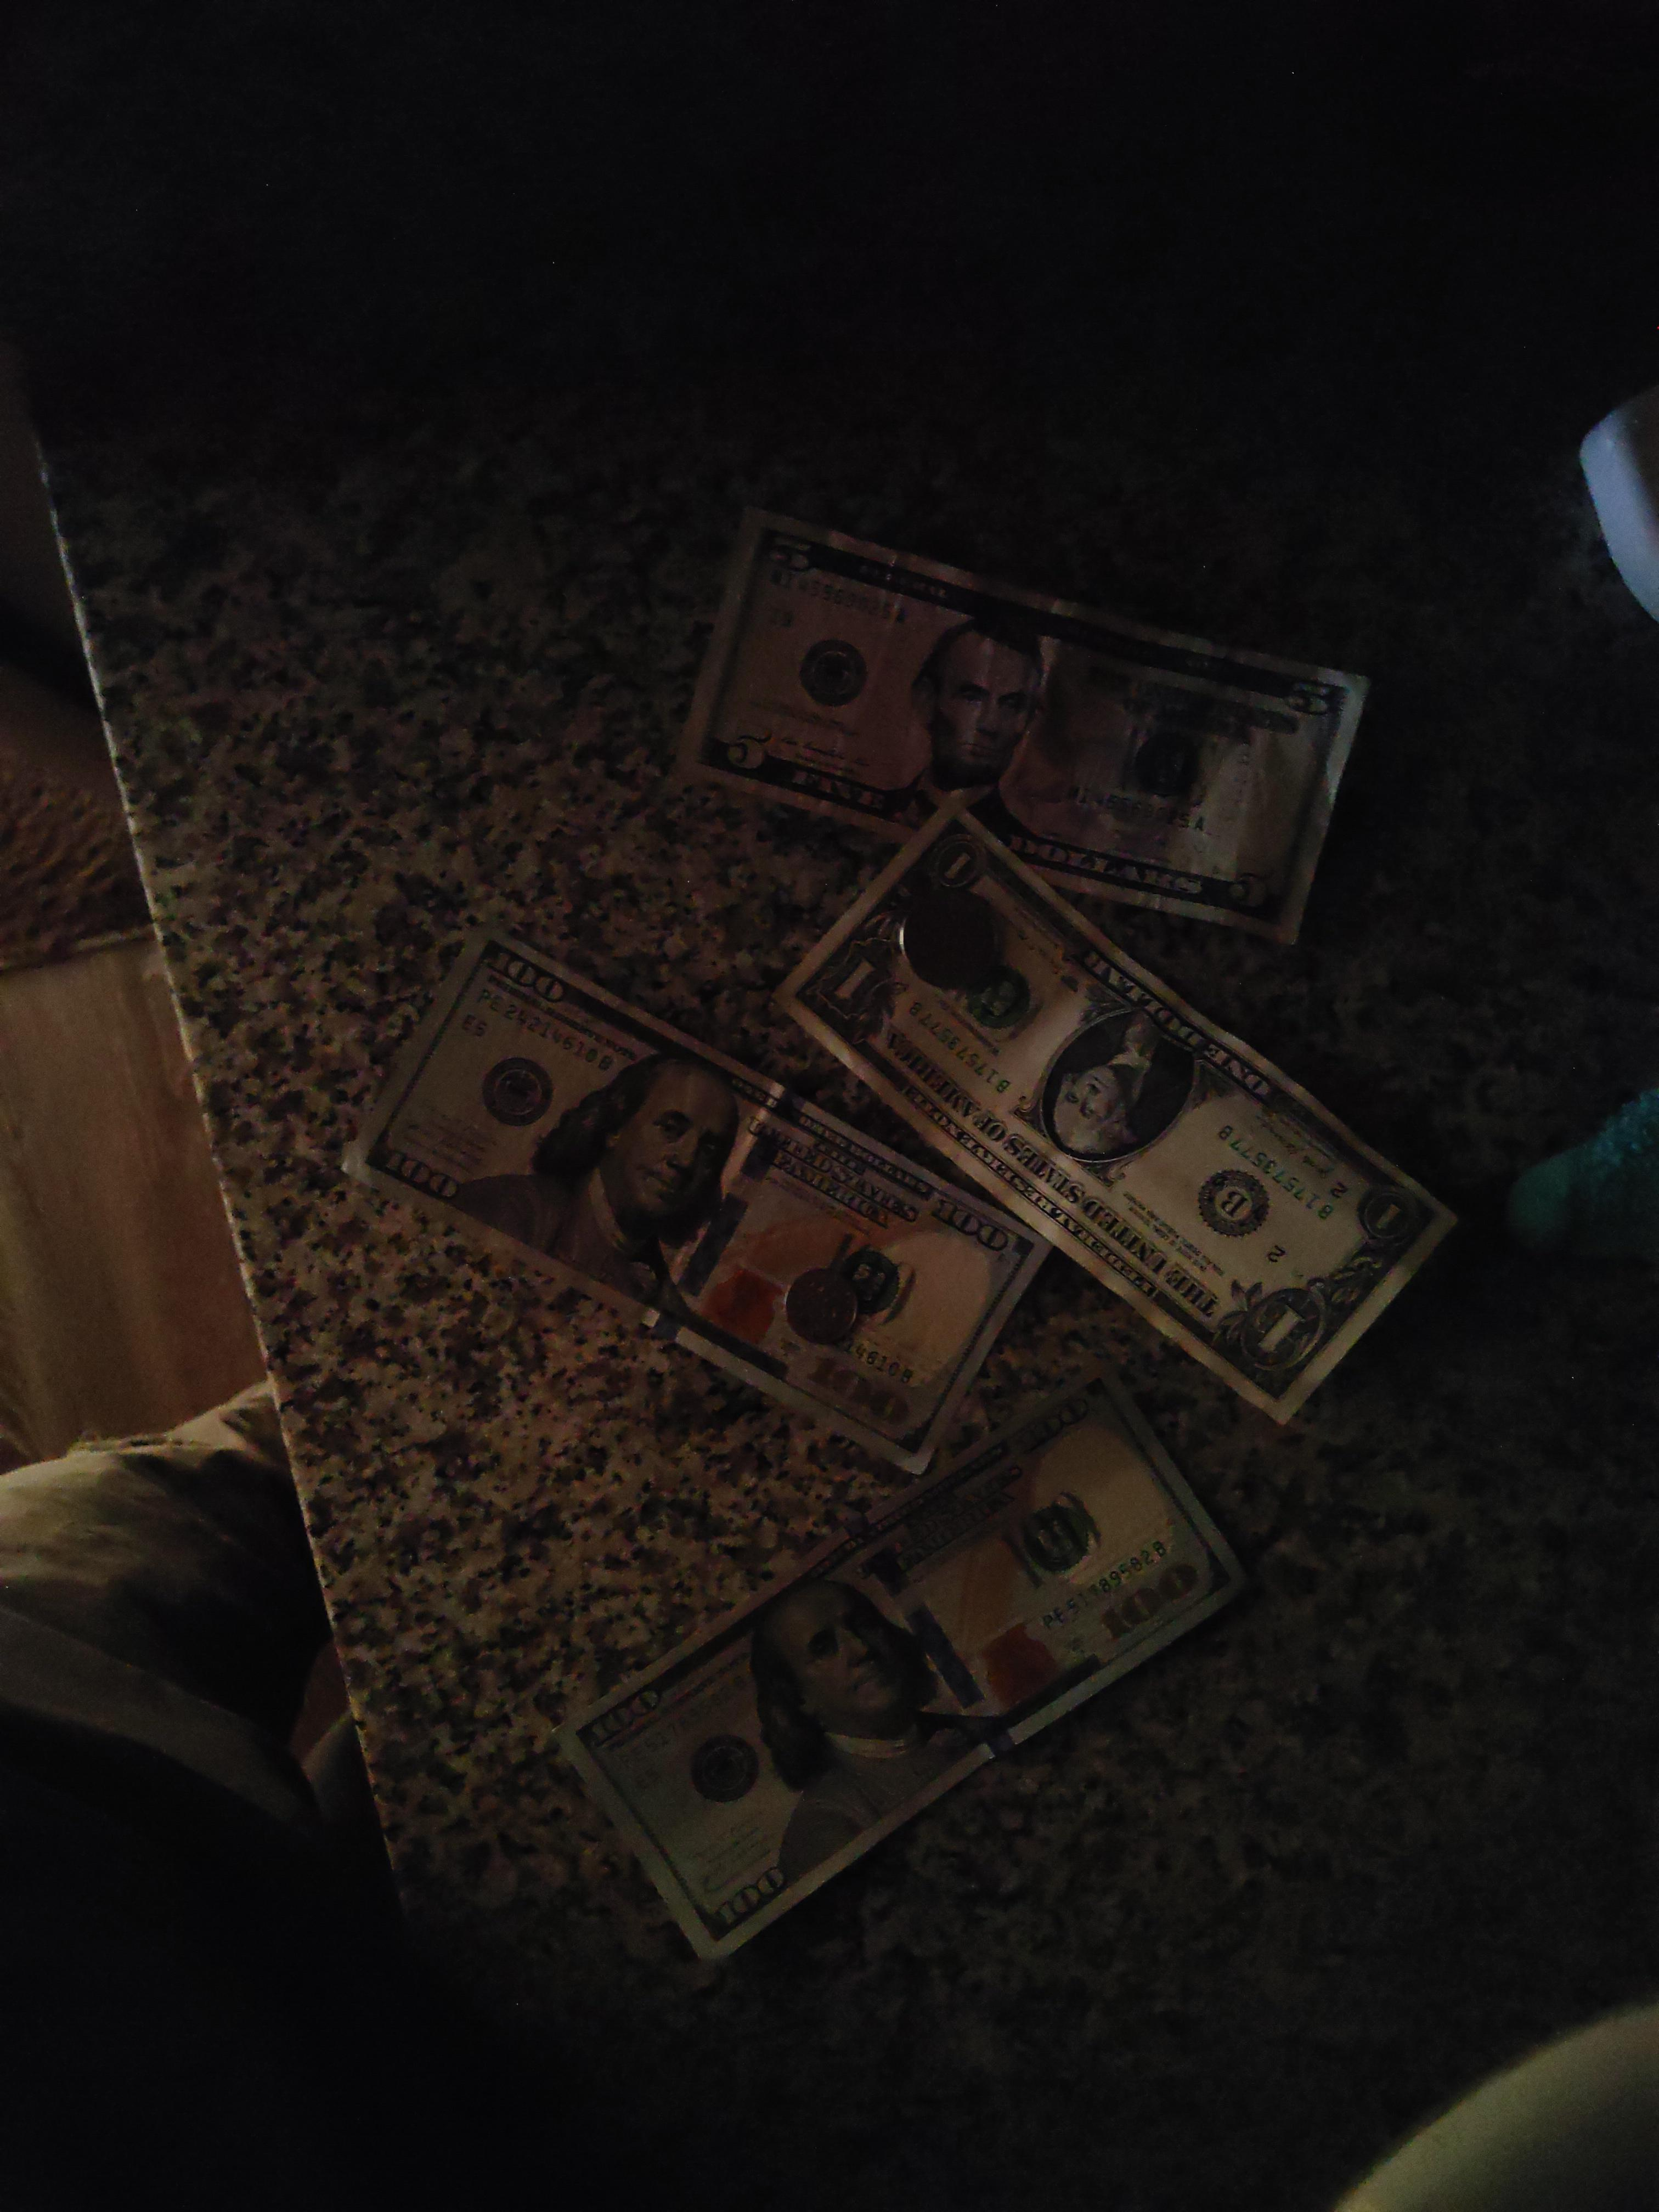Dime: (784, 1266, 859, 1348)
FiveBill: (674, 503, 1368, 948)
HundredBill: (547, 1360, 1251, 1970), (338, 920, 1053, 1480)
OneBill: (769, 787, 1459, 1430)
Quarter: (896, 890, 1009, 991)
